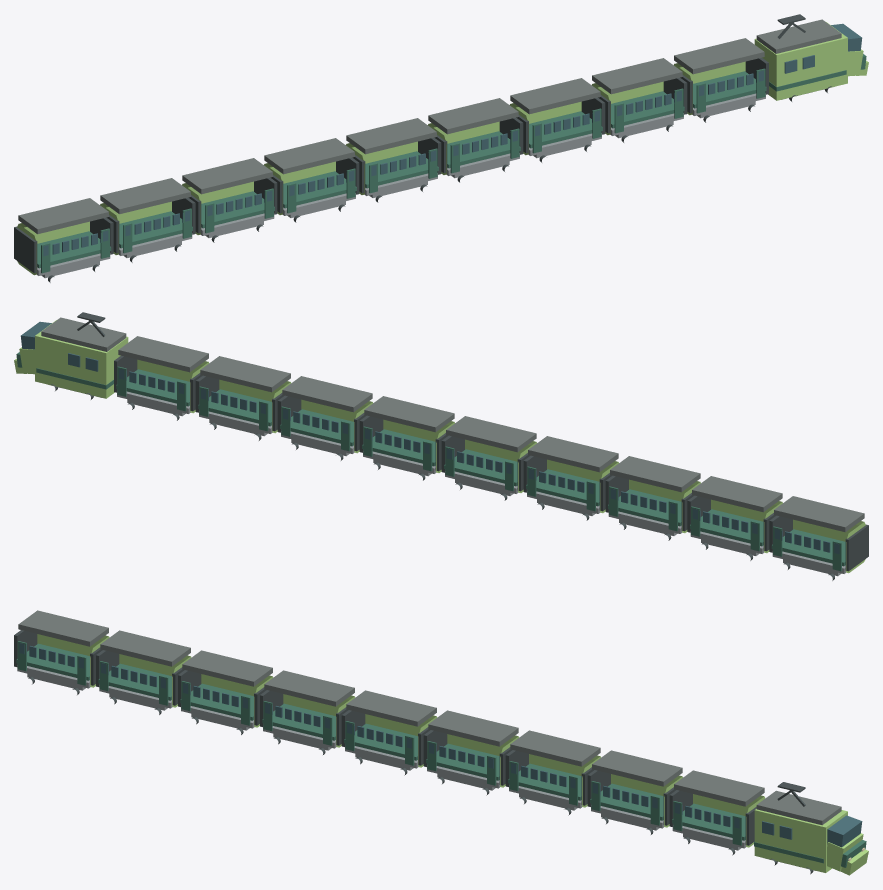
Rendered from flixtrain.glb.
3 renders of one model, top to bottom at view 1: azimuth 30°, elevation 25°; view 2: azimuth 150°, elevation 25°; view 3: azimuth 330°, elevation 25°, orthographic.
Parts seen in each view (by area): view 1: body_shell, flixtrain_car_8_roof, flixtrain_car_9_roof, flixtrain_car_2_roof, flixtrain_car_5_roof, flixtrain_car_7_roof, flixtrain_car_6_roof, flixtrain_car_1_roof, flixtrain_car_3_roof, flixtrain_car_4_roof, roof, flixtrain_car_7_identity_stripe (+18 smaller); view 2: body_shell, flixtrain_car_8_roof, flixtrain_car_9_roof, flixtrain_car_2_roof, flixtrain_car_5_roof, flixtrain_car_7_roof, flixtrain_car_6_roof, flixtrain_car_1_roof, flixtrain_car_3_roof, flixtrain_car_4_roof, roof, flixtrain_car_7_identity_stripe (+18 smaller); view 3: body_shell, flixtrain_car_9_roof, flixtrain_car_6_roof, flixtrain_car_7_roof, flixtrain_car_8_roof, flixtrain_car_3_roof, flixtrain_car_4_roof, flixtrain_car_5_roof, flixtrain_car_1_roof, flixtrain_car_2_roof, roof, flixtrain_car_1_identity_stripe (+19 smaller).
Boxes of the visible parts, <box> form: body_shell: <box>754,22,847,100</box>; flixtrain_car_8_roof: <box>100,178,190,214</box>; flixtrain_car_9_roof: <box>18,198,108,234</box>; flixtrain_car_2_roof: <box>592,58,682,94</box>; flixtrain_car_5_roof: <box>346,118,436,154</box>; flixtrain_car_7_roof: <box>182,158,272,194</box>; flixtrain_car_6_roof: <box>264,138,354,174</box>; flixtrain_car_1_roof: <box>674,38,764,74</box>; flixtrain_car_3_roof: <box>510,78,600,114</box>; flixtrain_car_4_roof: <box>428,98,518,134</box>; roof: <box>756,19,841,53</box>; flixtrain_car_7_identity_stripe: <box>201,191,274,228</box>; body_shell: <box>35,320,128,398</box>; flixtrain_car_8_roof: <box>692,476,782,512</box>; flixtrain_car_9_roof: <box>774,496,864,532</box>; flixtrain_car_2_roof: <box>200,356,290,392</box>; flixtrain_car_5_roof: <box>446,416,536,452</box>; flixtrain_car_7_roof: <box>610,456,700,492</box>; flixtrain_car_6_roof: <box>528,436,618,472</box>; flixtrain_car_1_roof: <box>118,336,208,372</box>; flixtrain_car_3_roof: <box>282,376,372,412</box>; flixtrain_car_4_roof: <box>364,396,454,432</box>; roof: <box>41,317,126,351</box>; flixtrain_car_7_identity_stripe: <box>608,489,681,526</box>; body_shell: <box>754,809,847,872</box>; flixtrain_car_9_roof: <box>18,610,108,646</box>; flixtrain_car_6_roof: <box>264,670,354,706</box>; flixtrain_car_7_roof: <box>182,650,272,686</box>; flixtrain_car_8_roof: <box>100,630,190,666</box>; flixtrain_car_3_roof: <box>510,730,600,766</box>; flixtrain_car_4_roof: <box>428,710,518,746</box>; flixtrain_car_5_roof: <box>346,690,436,726</box>; flixtrain_car_1_roof: <box>674,770,764,806</box>; flixtrain_car_2_roof: <box>592,750,682,786</box>; roof: <box>756,790,841,825</box>; flixtrain_car_1_identity_stripe: <box>672,803,745,840</box>.
Size of the model in its own units: 15.72 by 1.32 by 0.791.
